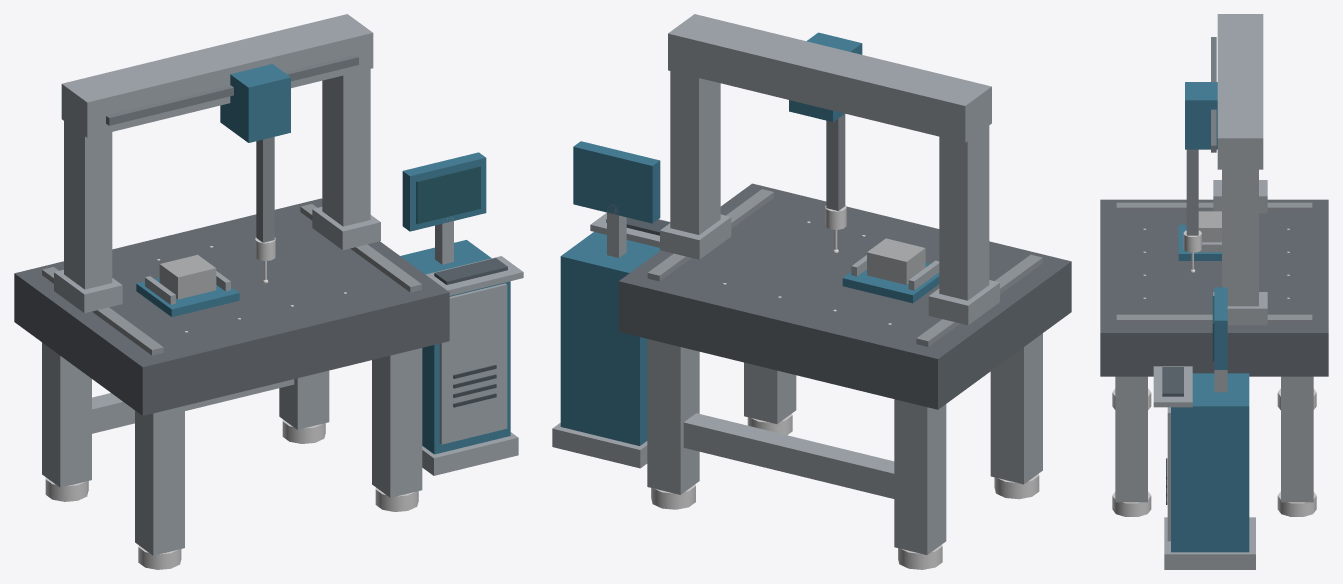
3 views of the same model, side by side, from view 1: azimuth 30°, elevation 25°; view 2: azimuth 150°, elevation 25°; view 3: azimuth 270°, elevation 25° (orthographic). The views are drawn at different scales.
Visible parts, largest first — view 1: granite, bridge, controllerFace, bridgeLeg0, bridgeLeg1, pedestal11, pedestal01, pedestal00, controllerCabinet, probeCarriage, display, monitor (+18 smaller); view 2: granite, bridge, controllerCabinet, bridgeLeg0, brace, bridgeLeg1, pedestal00, pedestal10, pedestal01, monitor, pedestal11, controllerBase (+13 smaller); view 3: granite, controllerCabinet, bridge, bridgeLeg1, pedestal10, pedestal11, controllerBase, probeCarriage, yRail1, yRail0, monitor, zRam (+12 smaller).
Part boxes in pixels (bbox=[...]): granite: bbox=[14, 198, 449, 415]; bridge: bbox=[61, 14, 373, 137]; controllerFace: bbox=[439, 283, 507, 444]; bridgeLeg0: bbox=[64, 121, 112, 289]; bridgeLeg1: bbox=[322, 69, 370, 226]; pedestal11: bbox=[372, 348, 422, 497]; pedestal01: bbox=[135, 406, 184, 555]; pedestal00: bbox=[42, 342, 91, 487]; controllerCabinet: bbox=[400, 240, 510, 454]; probeCarriage: bbox=[220, 64, 290, 142]; display: bbox=[416, 166, 480, 224]; monitor: bbox=[402, 152, 486, 231]; granite: bbox=[618, 183, 1071, 409]; bridge: bbox=[668, 14, 991, 142]; controllerCabinet: bbox=[560, 232, 660, 445]; bridgeLeg0: bbox=[939, 125, 989, 300]; brace: bbox=[683, 413, 894, 498]; bridgeLeg1: bbox=[670, 71, 720, 234]; pedestal00: bbox=[894, 399, 946, 554]; pedestal10: bbox=[647, 339, 699, 494]; pedestal01: bbox=[990, 333, 1042, 484]; monitor: bbox=[573, 141, 660, 223]; pedestal11: bbox=[744, 362, 796, 423]; controllerBase: bbox=[552, 423, 647, 468]; granite: bbox=[1100, 199, 1328, 376]; controllerCabinet: bbox=[1171, 373, 1249, 552]; bridge: bbox=[1217, 14, 1263, 169]; bridgeLeg1: bbox=[1222, 169, 1258, 306]; pedestal10: bbox=[1281, 376, 1313, 502]; pedestal11: bbox=[1115, 376, 1147, 502]; controllerBase: bbox=[1164, 517, 1255, 569]; probeCarriage: bbox=[1185, 82, 1217, 149]; yRail1: bbox=[1116, 314, 1312, 324]; yRail0: bbox=[1116, 202, 1312, 212]; monitor: bbox=[1214, 287, 1227, 369]; zRam: bbox=[1186, 149, 1198, 235].
Bounding box in the file's own units: 1.95 × 1.94 × 1.05.
